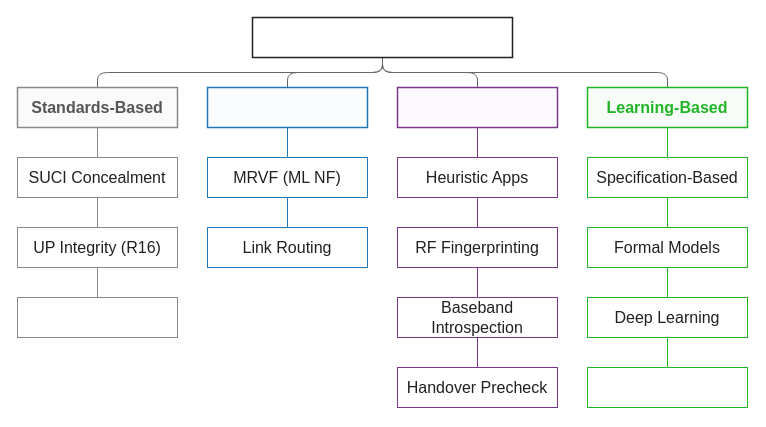
The diagram is 766 pixels wide and 427 high, and some of its shapes have lost their labels. The centre of each missing label's shape, as x and y in pixels:
"Capability Protection" belongs at point 97,317.
"Data Augmentation" belongs at point 667,387.
"False Base Station Countermeasures" belongs at point 382,37.
"Network-Side" belongs at point 287,107.
"UE-Side" belongs at point 477,107.
